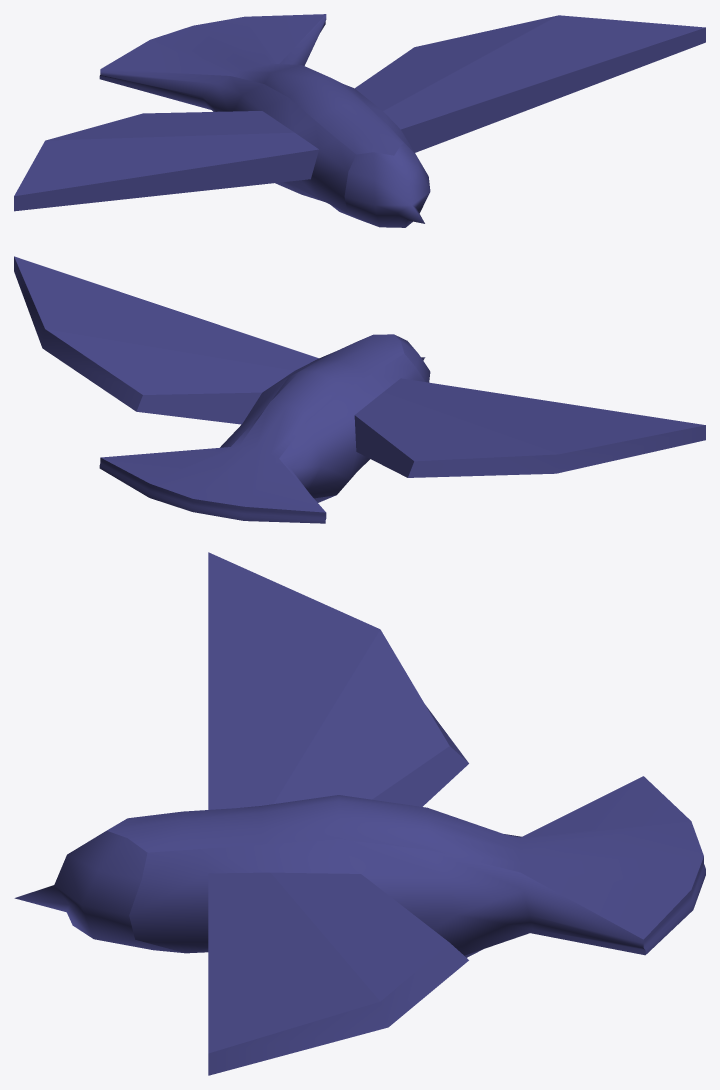
File: toriKari.fbx
3 renders of one model, top to bottom at view 1: azimuth 30°, elevation 25°; view 2: azimuth 150°, elevation 25°; view 3: azimuth 270°, elevation 25°, orthographic. The views are drawn at different scales.
Parts seen in each view (by area): view 1: pCube2; view 2: pCube2; view 3: pCube2.
Boxes of the visible parts, box(x1,y1,x2,y2) form: pCube2: box(14, 14, 705, 227); pCube2: box(14, 256, 705, 523); pCube2: box(14, 552, 705, 1075).
Size of the model in its own units: 28.72 by 4.67 by 16.75.
